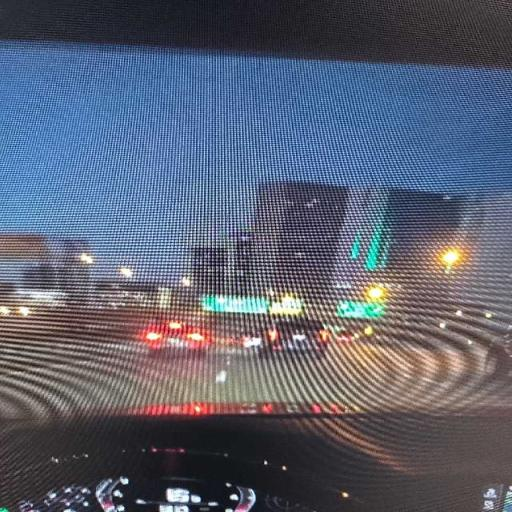car: (260, 319, 331, 354), (142, 321, 211, 354)
lane: (0, 338, 505, 418)
